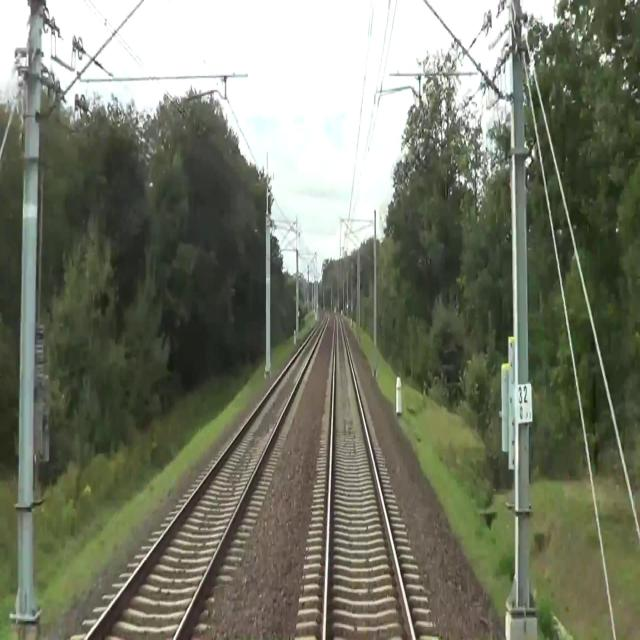rail-track: (89, 312, 326, 639), (327, 315, 411, 639)
